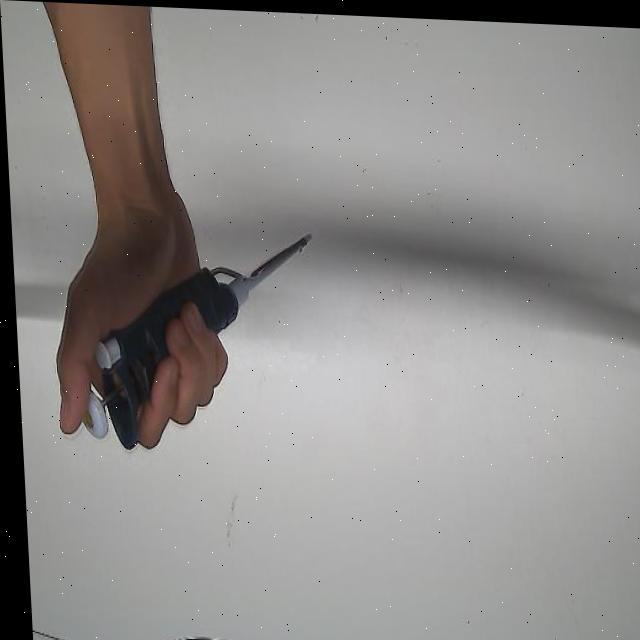Single Channel Pipettor: (68, 218, 322, 457)
